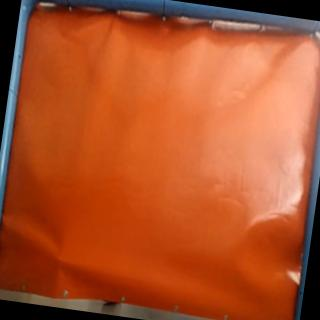Hit-hRxx: (51, 248, 68, 267)
